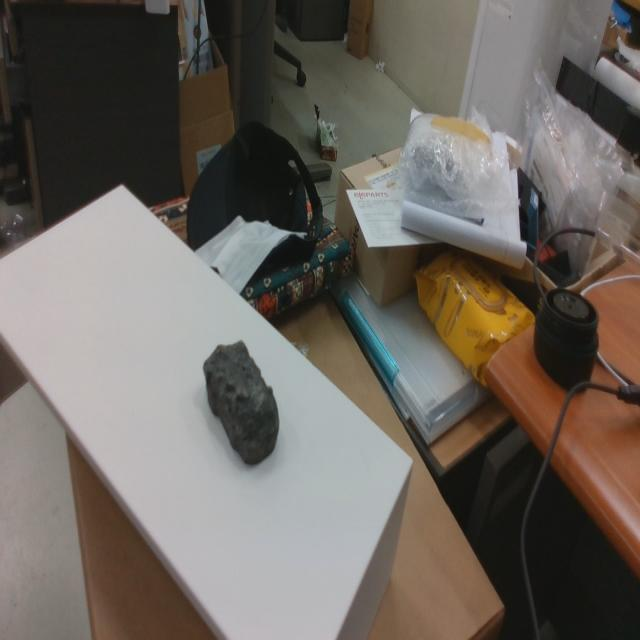stone: (203, 341, 279, 467)
